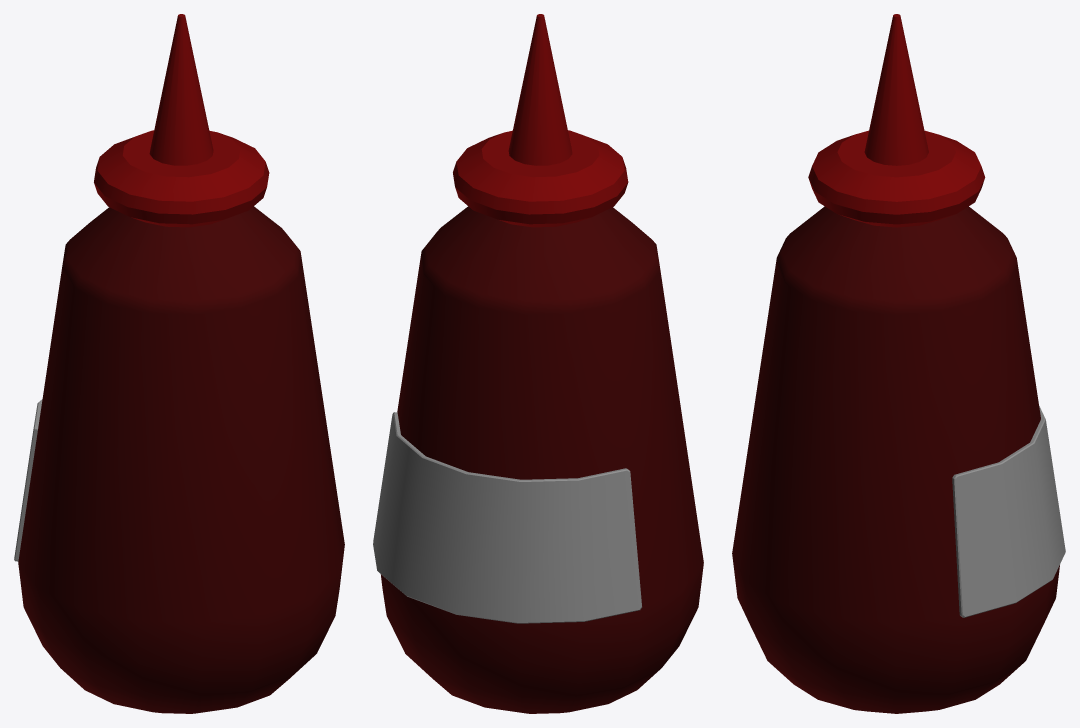
File: Ketchup.FBX
The picture shows the model from 3 angles, left to right: view 1: azimuth 30°, elevation 25°; view 2: azimuth 150°, elevation 25°; view 3: azimuth 270°, elevation 25°; orthographic projection.
Visible parts, largest first — view 1: Ketchup; view 2: Ketchup; view 3: Ketchup.
Part boxes in pixels (bbox=[...]): Ketchup: bbox=[14, 14, 344, 713]; Ketchup: bbox=[373, 14, 703, 713]; Ketchup: bbox=[732, 14, 1065, 713].
Size of the model in its own units: 528 by 535 by 1189.
